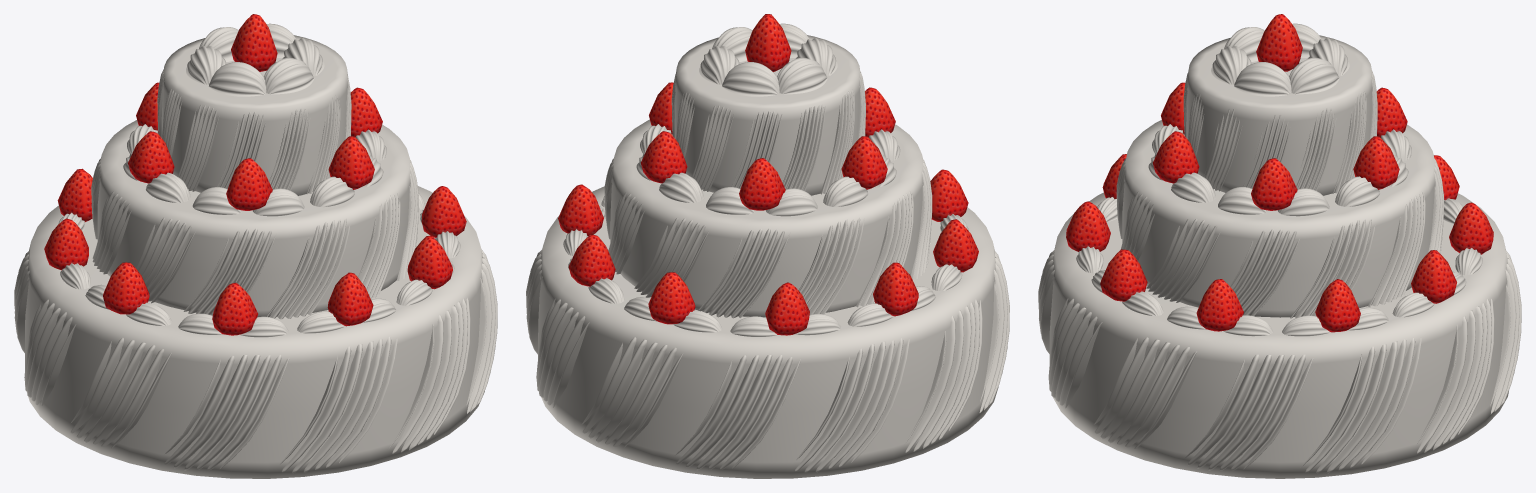
The picture shows the model from 3 angles, left to right: view 1: azimuth 30°, elevation 25°; view 2: azimuth 150°, elevation 25°; view 3: azimuth 270°, elevation 25°; orthographic projection.
Visible parts, largest first — view 1: pSphere16; view 2: pSphere16; view 3: pSphere16.
Boxes of the visible parts, left/top/right/bottom form: pSphere16: left=14, top=14, right=497, bottom=478; pSphere16: left=526, top=14, right=1009, bottom=478; pSphere16: left=1038, top=14, right=1521, bottom=478.
Size of the model in its own units: 32.56 by 27.25 by 32.56.
